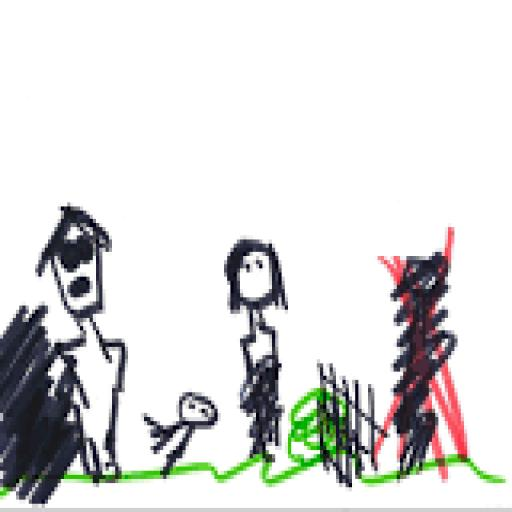person: (36, 178, 140, 481), (227, 228, 294, 469), (141, 378, 219, 485)
